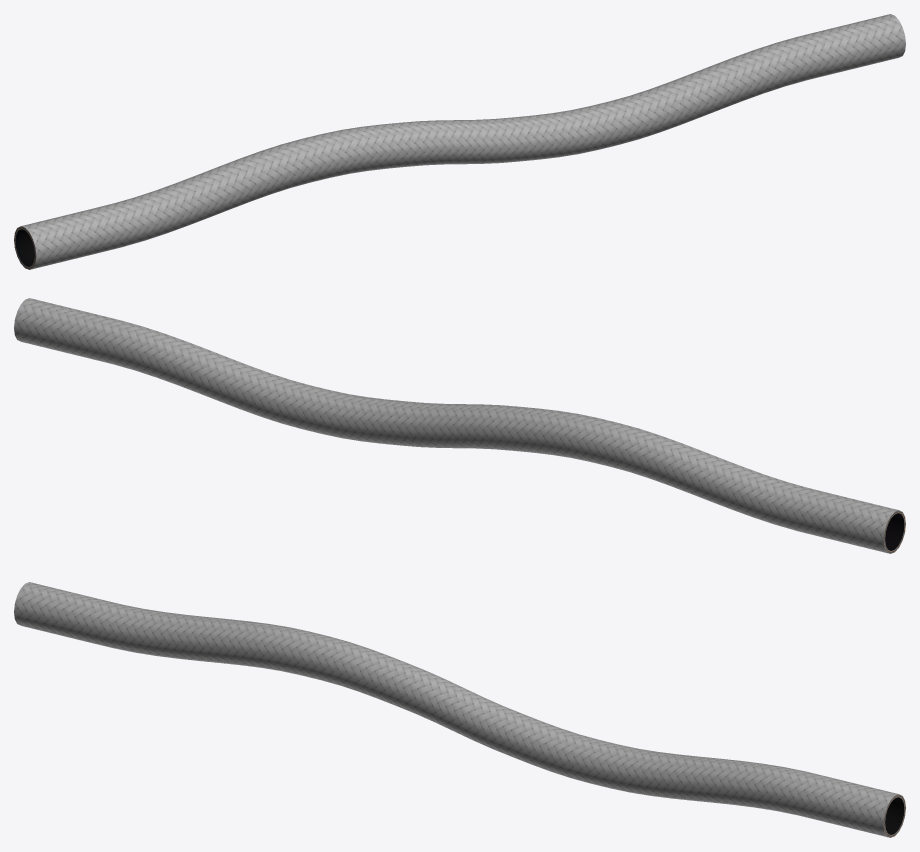
3 views of the same model, one above another, from view 1: azimuth 30°, elevation 25°; view 2: azimuth 150°, elevation 25°; view 3: azimuth 330°, elevation 25° (orthographic).
Visible parts, largest first — view 1: Stainless_Steel_Braid-32.002; view 2: Stainless_Steel_Braid-32.002; view 3: Stainless_Steel_Braid-32.002.
Part boxes in pixels (x1,y1,x2,y2): Stainless_Steel_Braid-32.002: [14, 14, 905, 269]; Stainless_Steel_Braid-32.002: [14, 298, 905, 553]; Stainless_Steel_Braid-32.002: [14, 582, 905, 837].
Size of the model in its own units: 1.36 by 0.1169 by 0.0607.
2 materials, 2 textured.
